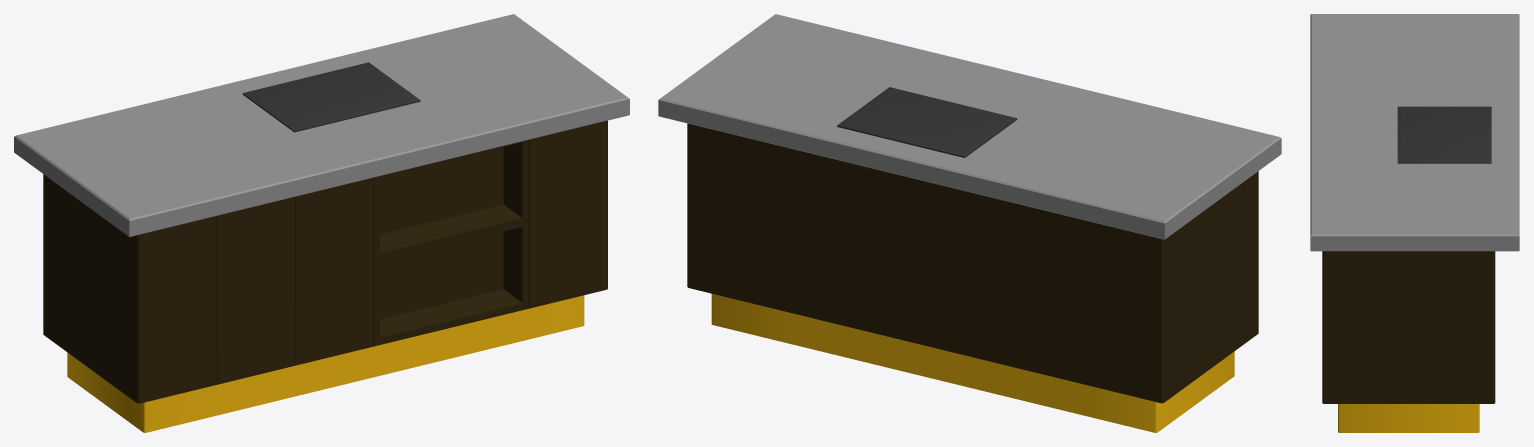
The model's file is Mesa.FBX.
3 renders of one model, left to right at view 1: azimuth 30°, elevation 25°; view 2: azimuth 150°, elevation 25°; view 3: azimuth 270°, elevation 25°, orthographic. The views are drawn at different scales.
Visible parts, largest first — view 1: Mesa; view 2: Mesa; view 3: Mesa.
Boxes of the visible parts, x1,y1,x2,y2 form: Mesa: (14, 14, 629, 432); Mesa: (658, 14, 1281, 432); Mesa: (1310, 14, 1519, 432).
Size of the model in its own units: 213 by 95.49 by 85.01.
